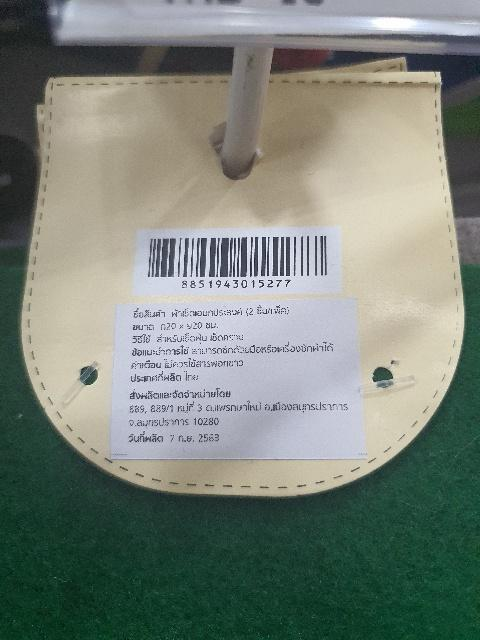Barcode: (140, 229, 337, 290)
